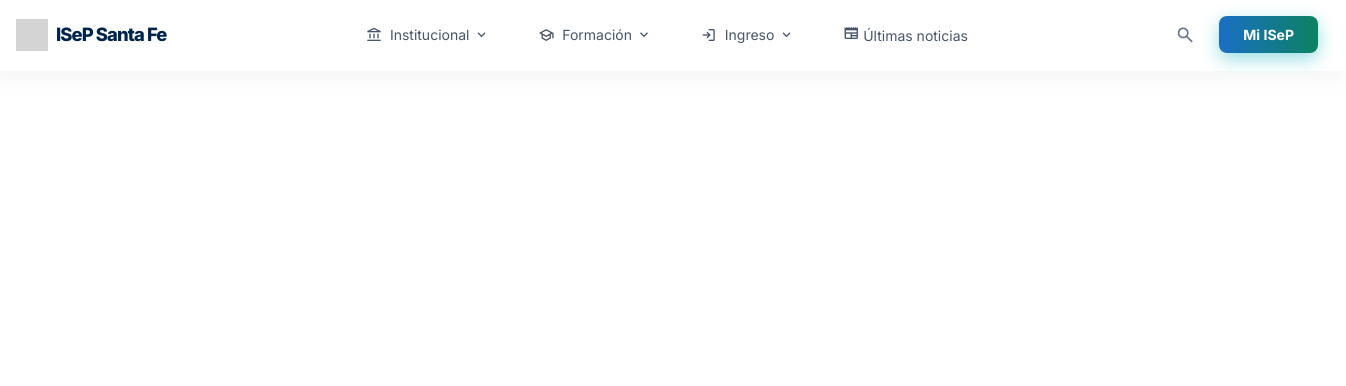
Test case: Navbar › muestra 'Inicio de ingreso' como primer destino del dropdown Ingreso
Click the button "Ingreso": click(750, 35) [686,18,813,52]
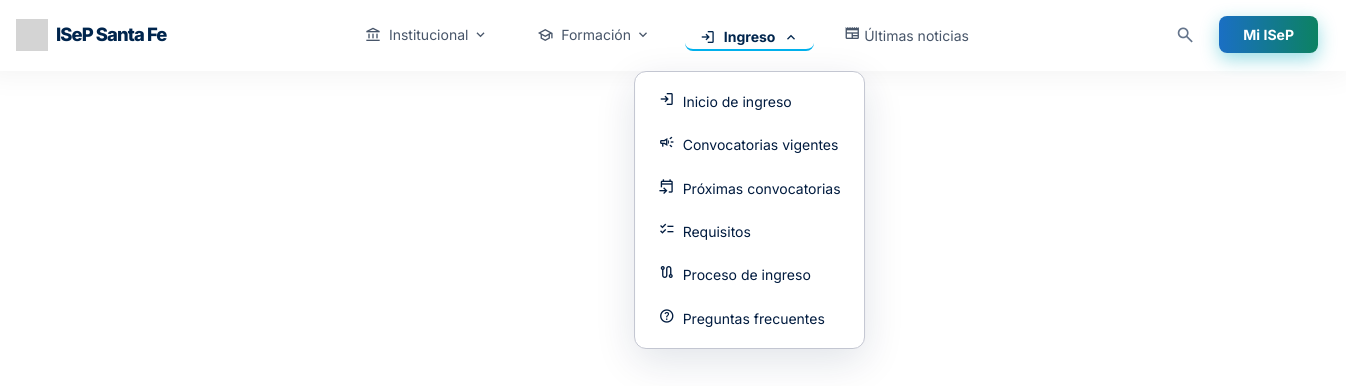
Result: the link "Inicio de ingreso" is shown at [659,89,792,110]
